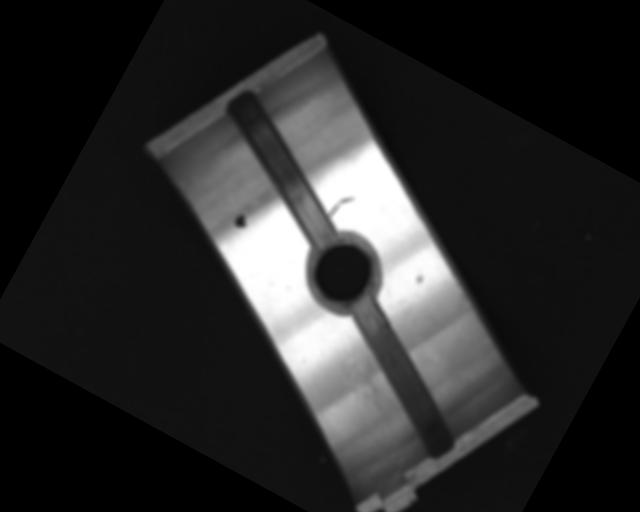blot: (232, 209, 252, 230)
bruise: (413, 273, 425, 286)
gap: (308, 292, 496, 463), (192, 88, 370, 248)
hole: (295, 223, 393, 320)
nick: (326, 190, 354, 224)
scratch: (330, 345, 421, 431)
